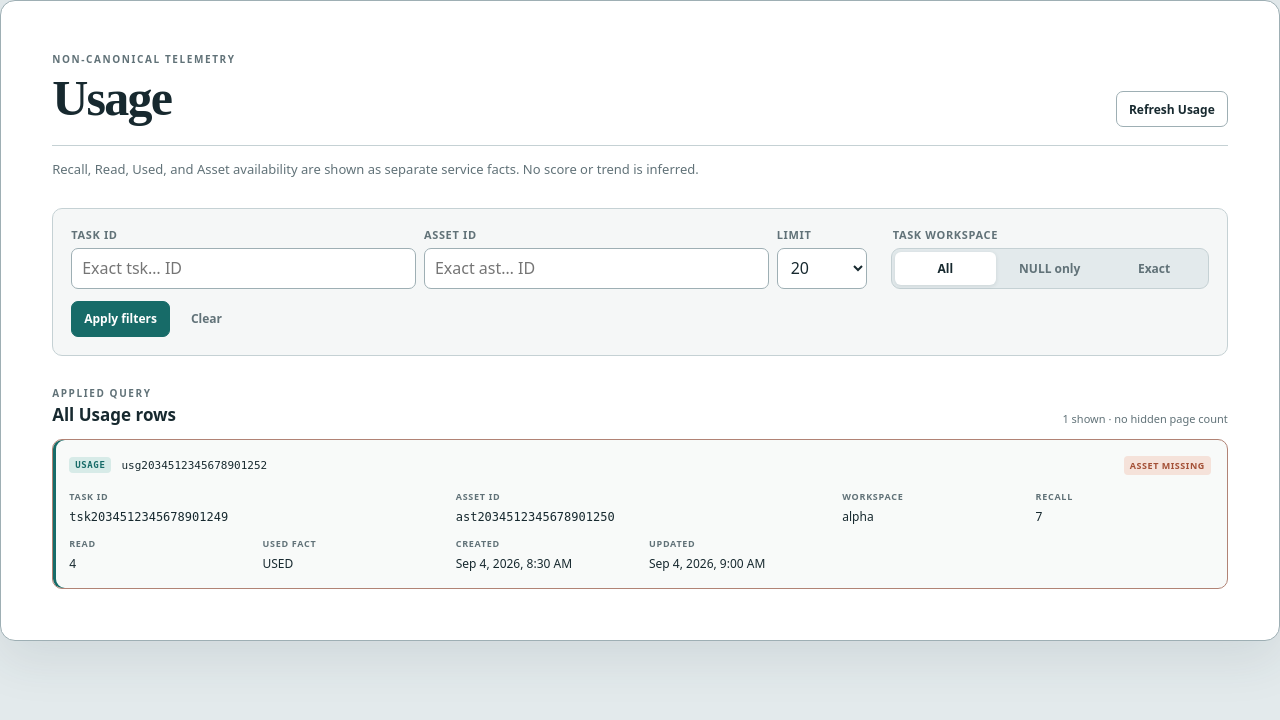
Usage view › keeps the newer filtered response when an older request finishes later
Type "tsk2034512345678901249" into the field labelled "Task ID".
click(244, 268); type("tsk2034512345678901249")  # box [71, 248, 416, 289]
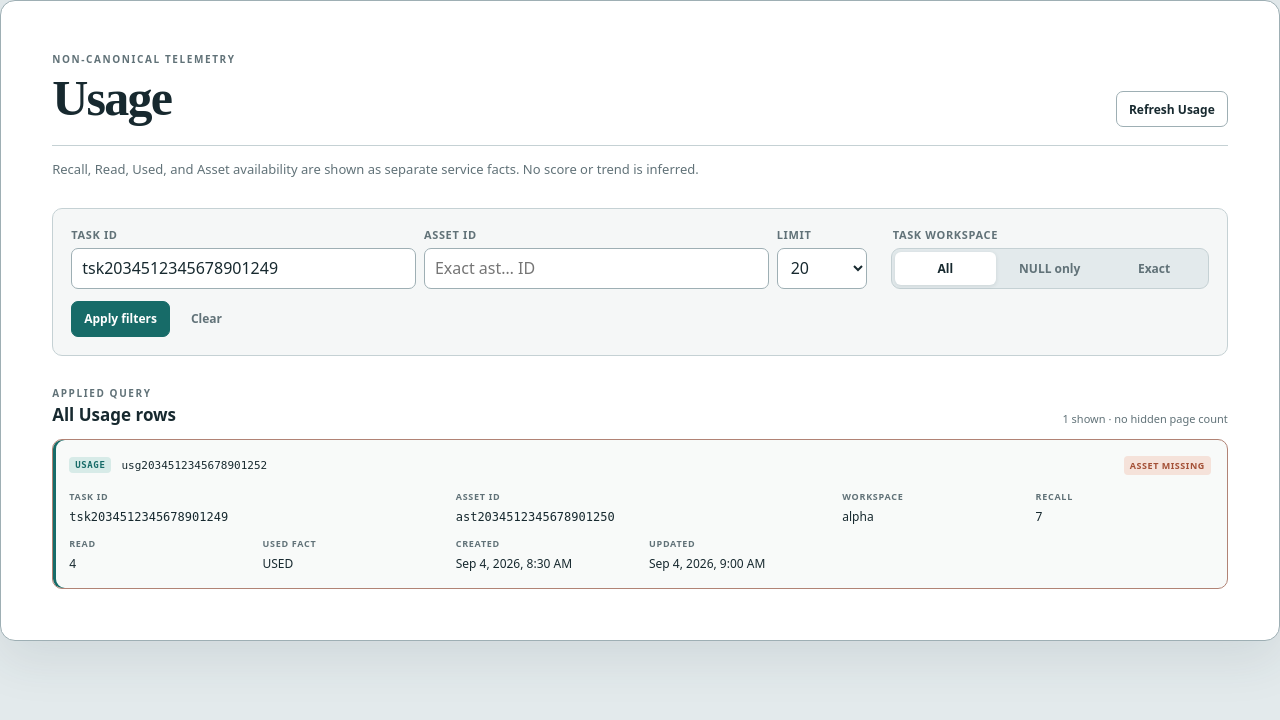
Submit the form, box [52, 208, 1228, 356]
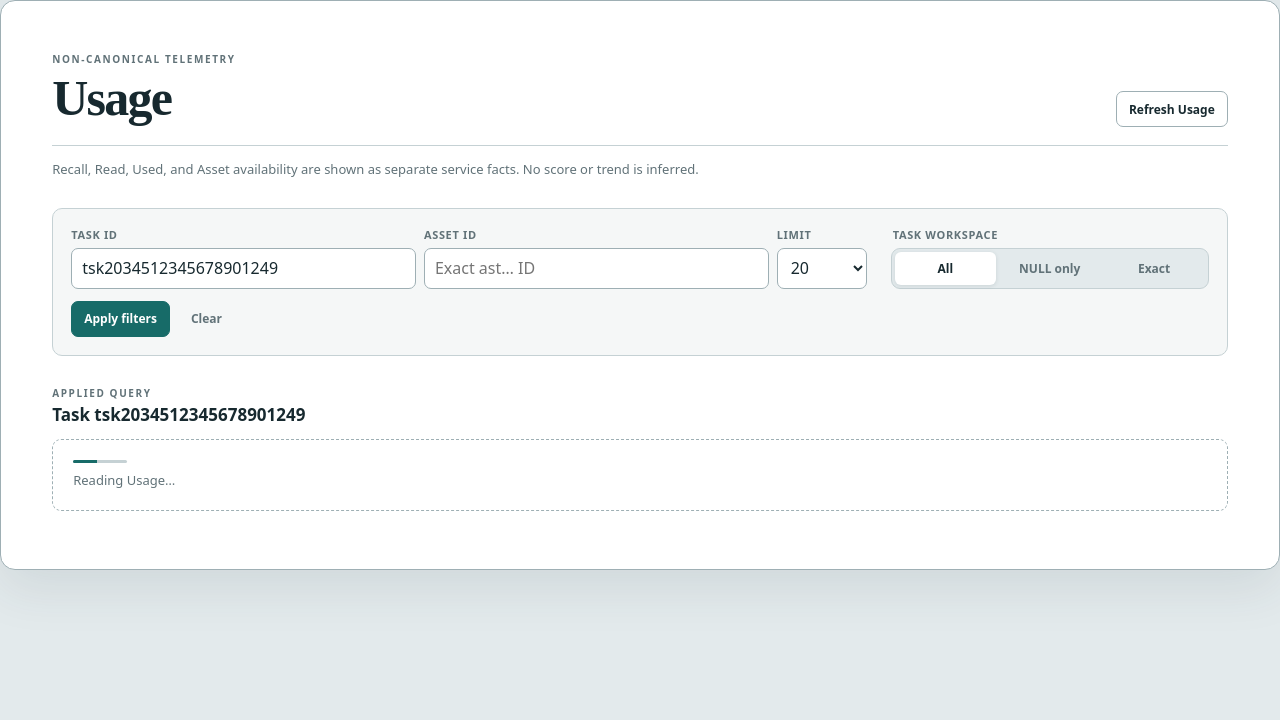
Replace the text in the field labelled "Task ID" with "tsk2034512345678901299" at (244, 268), box [71, 248, 416, 289]
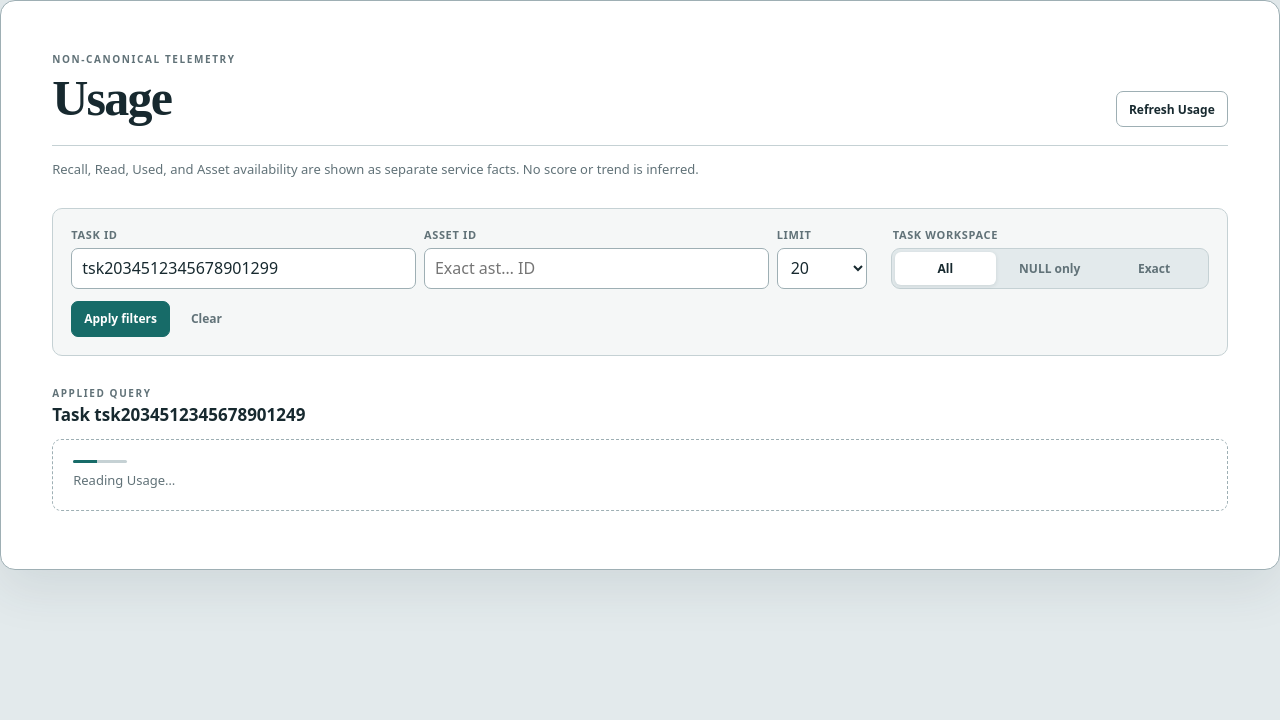
Submit the form, box [52, 208, 1228, 356]
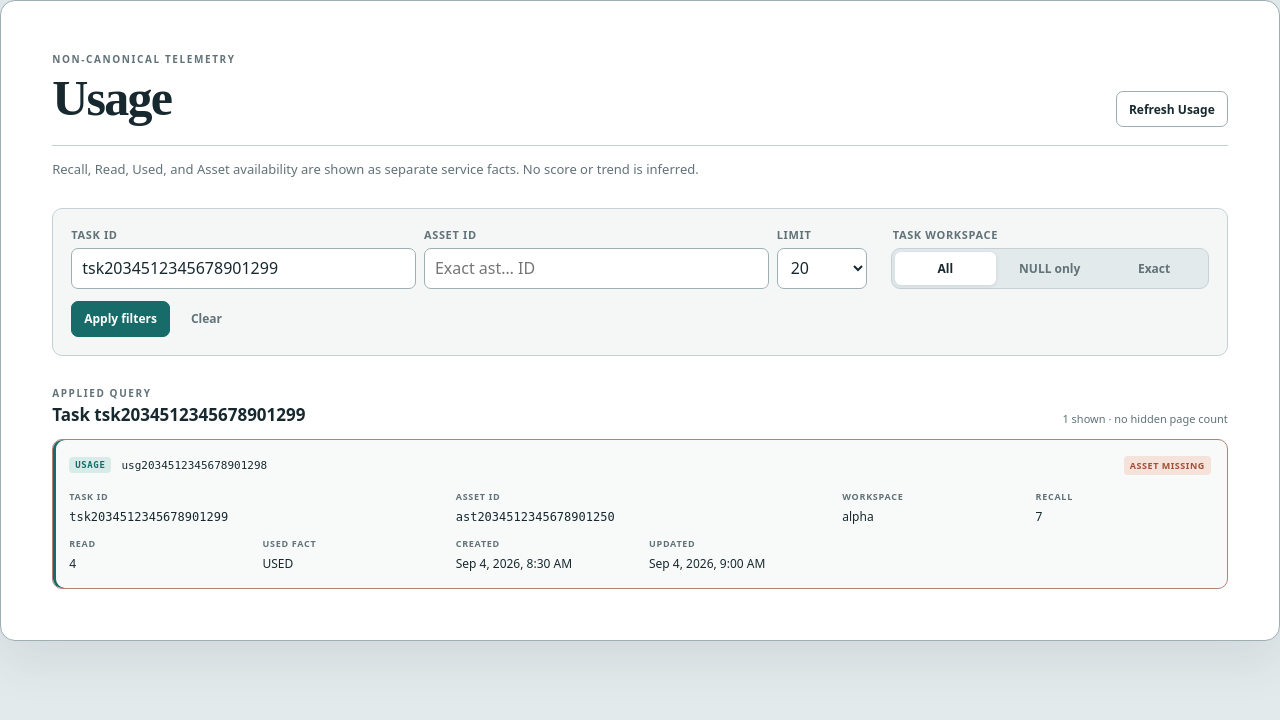
Expected: the text "usg2034512345678901298" is shown, [121, 459, 267, 472]
